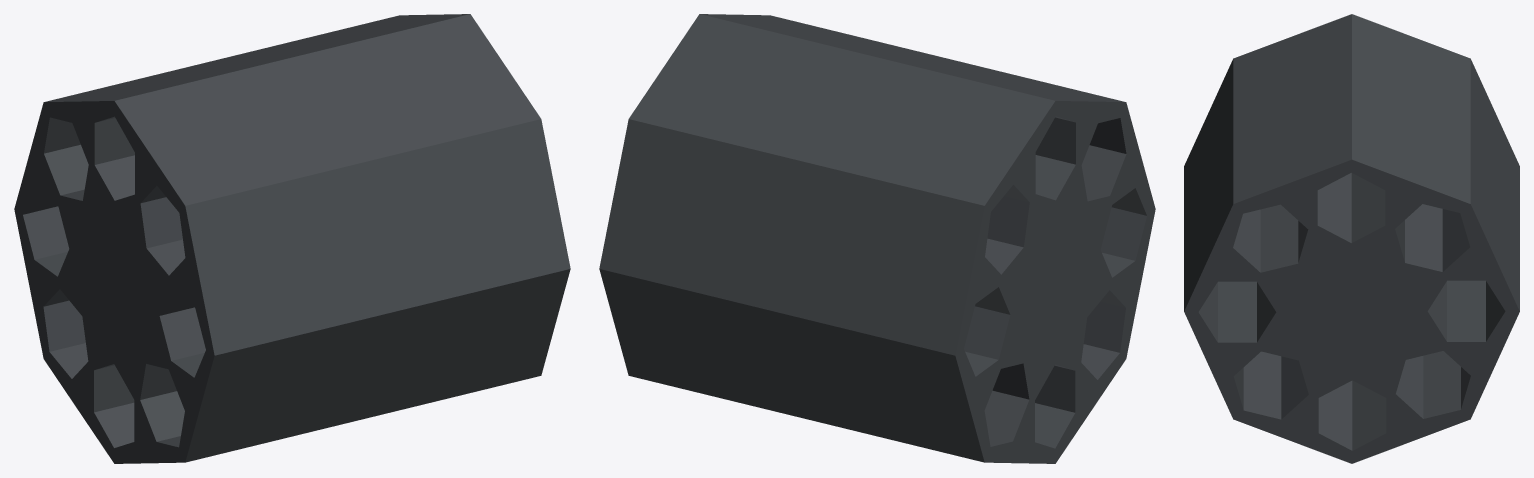
File: Pistol5_02_2.fbx
3 renders of one model, left to right at view 1: azimuth 30°, elevation 25°; view 2: azimuth 150°, elevation 25°; view 3: azimuth 270°, elevation 25°, orthographic. The views are drawn at different scales.
Parts seen in each view (by area): view 1: Pistol5_02_2; view 2: Pistol5_02_2; view 3: Pistol5_02_2.
Boxes of the visible parts, x1,y1,x2,y2 form: Pistol5_02_2: (14,14,570,463); Pistol5_02_2: (599,14,1155,463); Pistol5_02_2: (1184,14,1519,463).
Size of the model in its own units: 0.0511 by 0.0498 by 0.0498.
